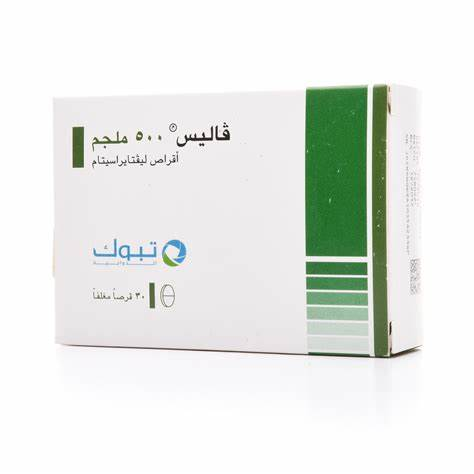Medicine: (48, 79, 432, 370)
